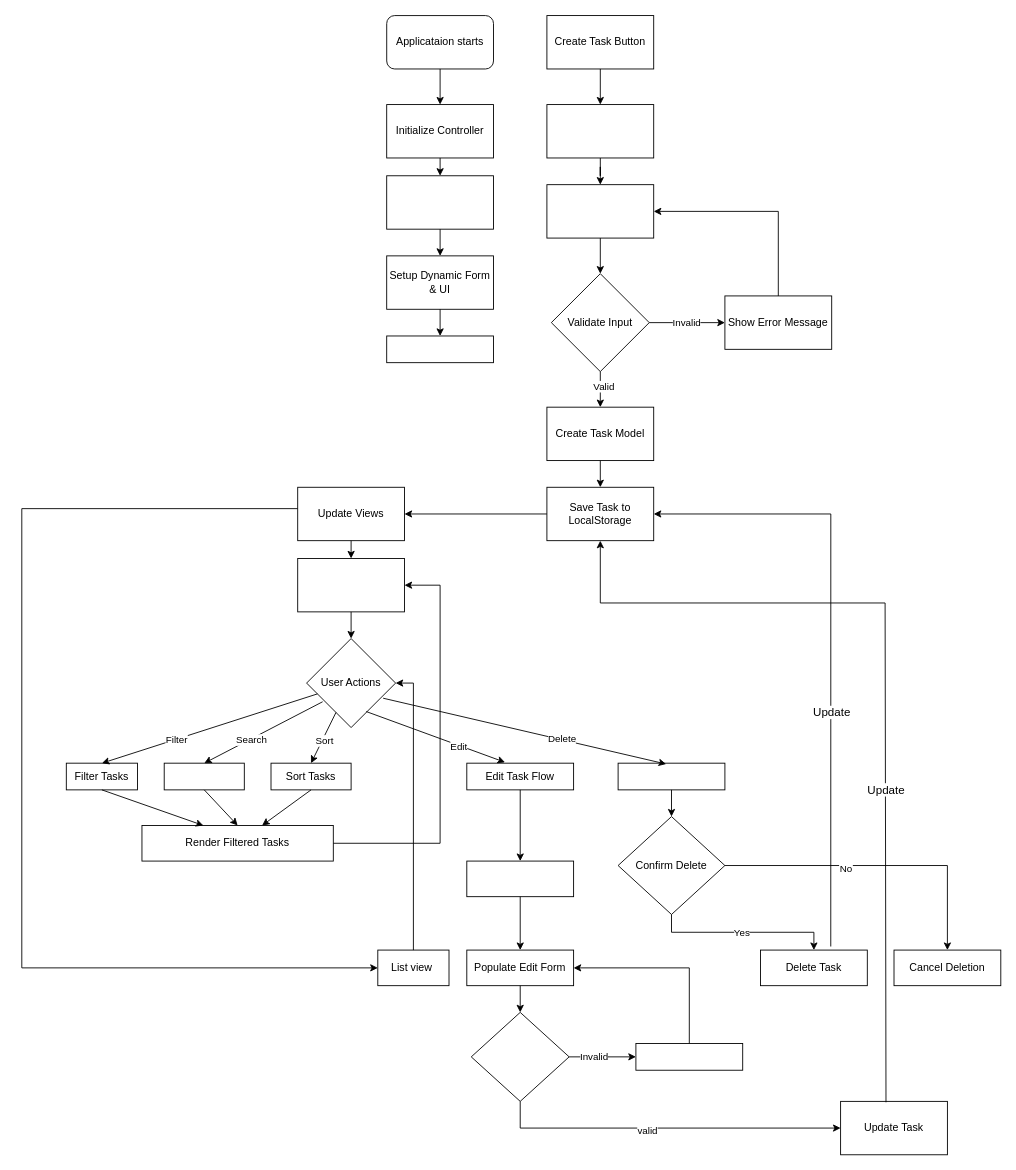
Image size: 1016x1170. Some labels were removed from this diagram. Each missing label, with the centre of its shape:
"Board view" belongs at [351,585].
"Delete Task Flow" belongs at [671,776].
"Load Task from LocalStorage" belongs at [440,202].
"Open Create Modal" belongs at [600,131].
"Open Edit Modal" belongs at [520,878].
"Render" belongs at [440,349].
"Search Tasks" belongs at [203,776].
"show Error" belongs at [689,1056].
"User Input Form" belongs at [600,211].
"Validate Edit input" belongs at [519,1056].
